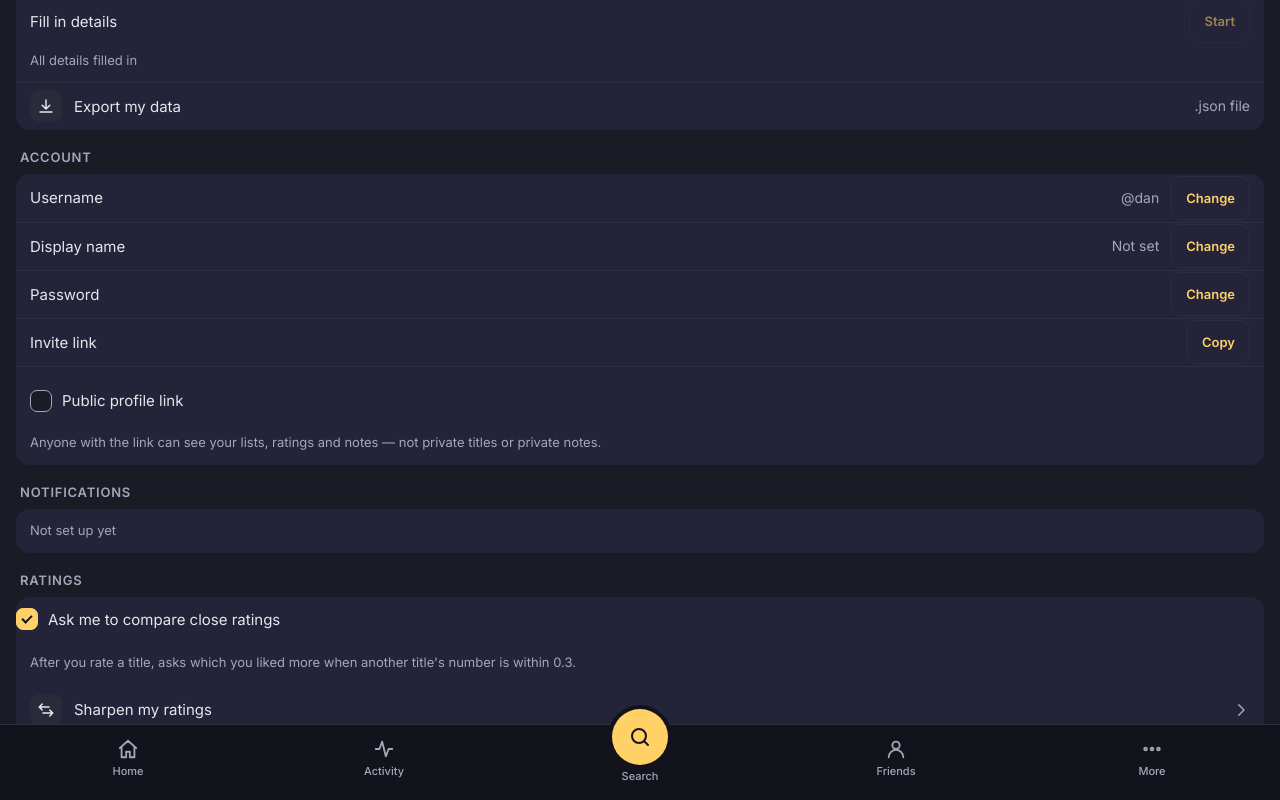
Test: Settings > Public profile link › a failed save says so and leaves the switch as it was
The width and height of the screenshot is (1280, 800).
(page scrolled)
Click the switch labelled "Public profile link" at (41, 401), box [30, 390, 52, 412]
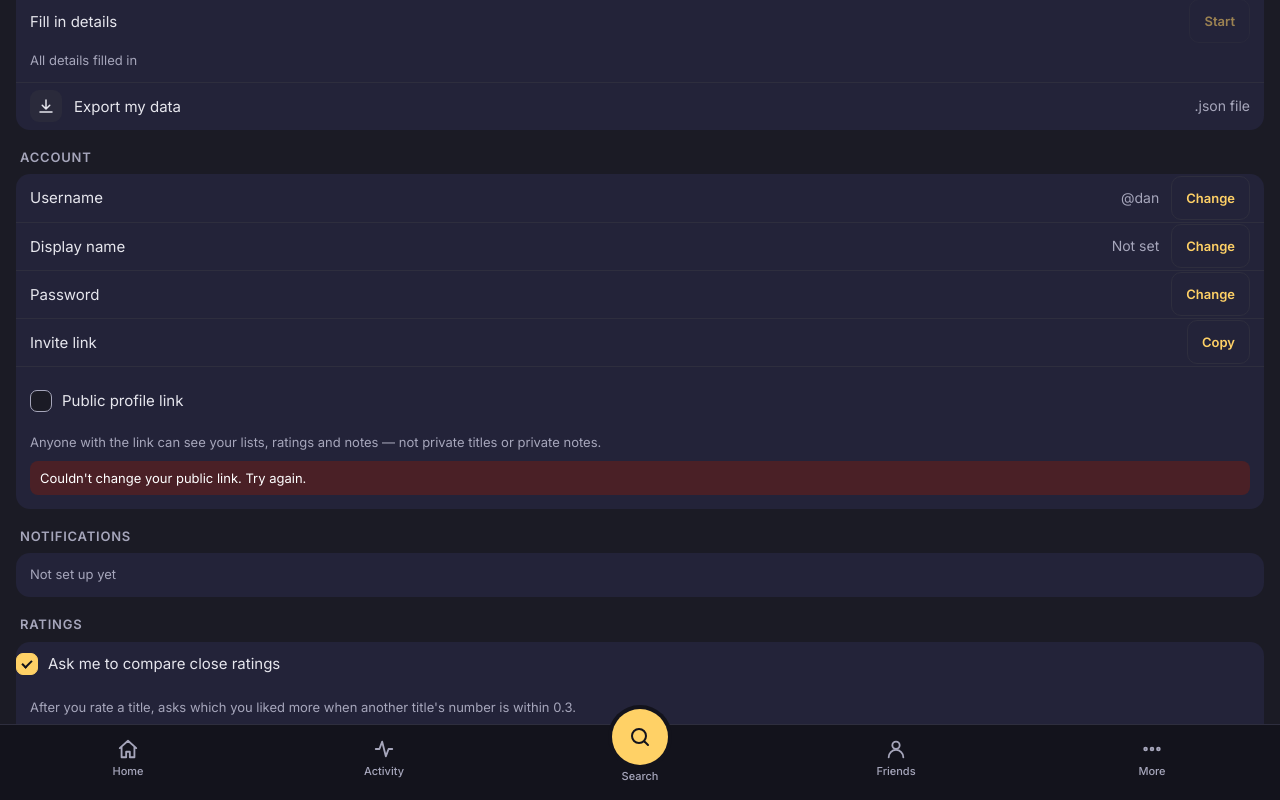
Now the text "Couldn't change your public link. Try again." is shown, box [30, 461, 1250, 495]
